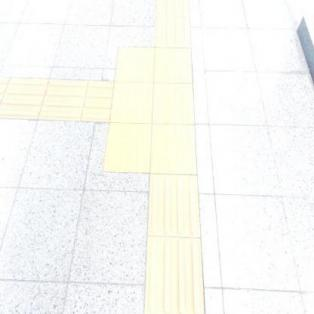Podoctatil: (94, 24, 214, 205), (144, 173, 207, 313), (1, 73, 110, 122), (154, 0, 190, 47)
